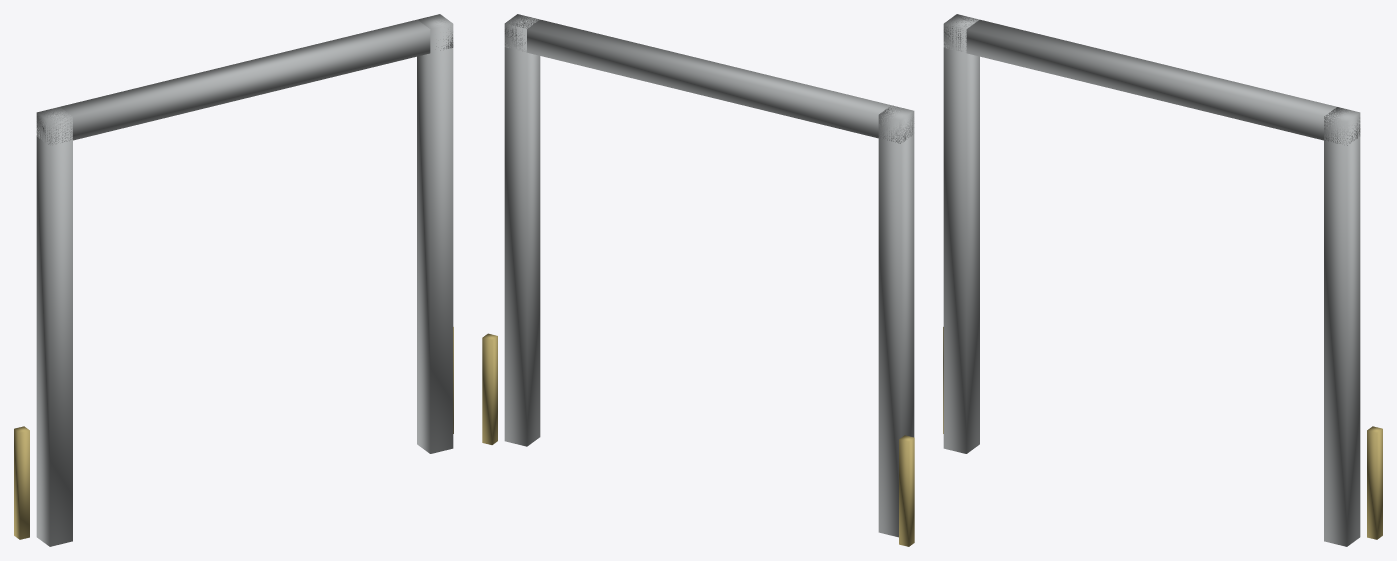
File: elevator_shaft_industrial_w280_h300_d18.glb
The picture shows the model from 3 angles, left to right: view 1: azimuth 30°, elevation 25°; view 2: azimuth 150°, elevation 25°; view 3: azimuth 330°, elevation 25°; orthographic projection.
Visible parts, largest first — view 1: world; view 2: world; view 3: world.
Boxes of the visible parts, left/top/right/bottom form: world: left=14, top=14, right=453, bottom=546; world: left=482, top=14, right=914, bottom=546; world: left=943, top=14, right=1382, bottom=546.
Size of the model in its own units: 3.4 by 3.18 by 0.28.
